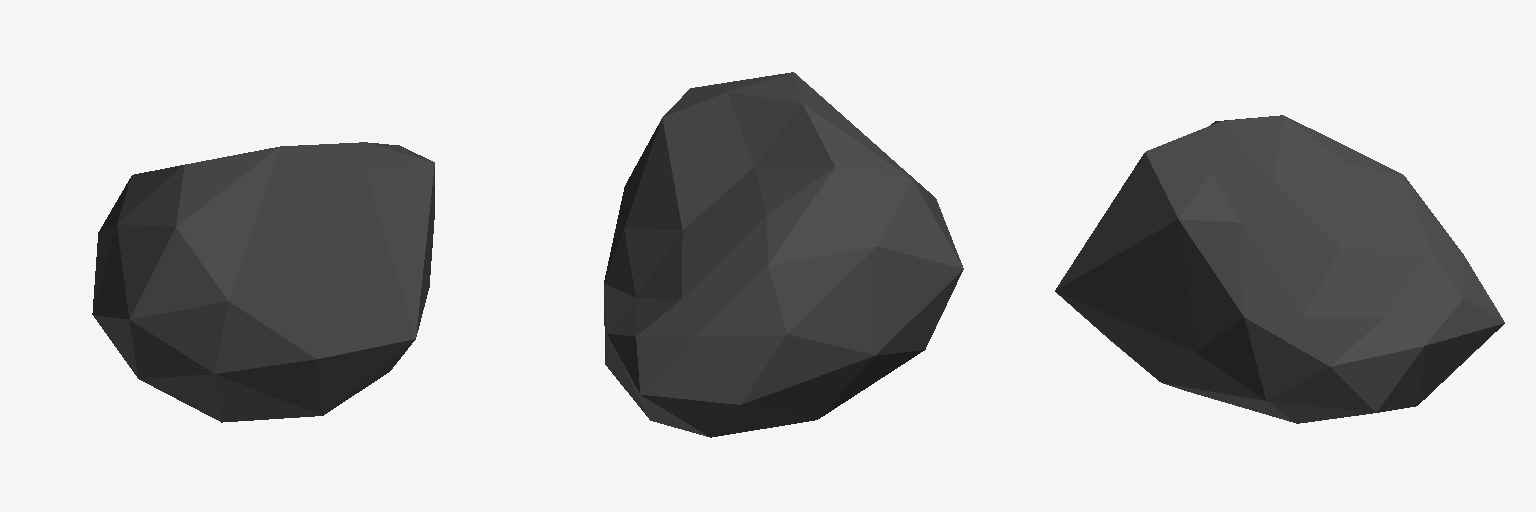
Rendered from rock_3.obj.
3 views of the same model, side by side, from view 1: azimuth 30°, elevation 25°; view 2: azimuth 150°, elevation 25°; view 3: azimuth 270°, elevation 25° (orthographic).
Parts seen in each view (by area): view 1: r3_Icosphere; view 2: r3_Icosphere; view 3: r3_Icosphere.
Part boxes in pixels (bbox=[...]): r3_Icosphere: bbox=[92, 142, 434, 422]; r3_Icosphere: bbox=[604, 72, 963, 437]; r3_Icosphere: bbox=[1055, 115, 1504, 423].
Size of the model in its own units: 2.24 by 1.76 by 2.72.